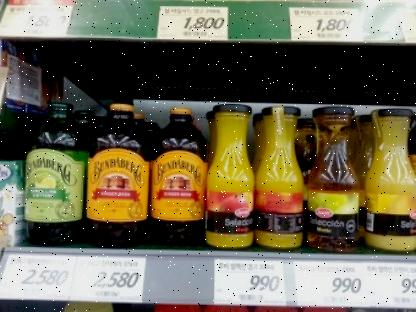Others: (87, 104, 150, 247), (26, 103, 88, 245), (150, 108, 207, 245), (308, 108, 360, 253), (366, 109, 416, 251), (207, 105, 256, 248), (256, 106, 305, 249)
